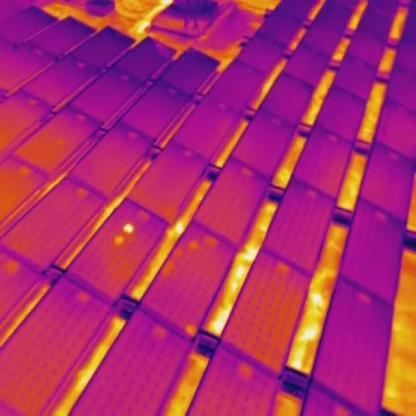anomaly: (123, 221, 134, 237)
